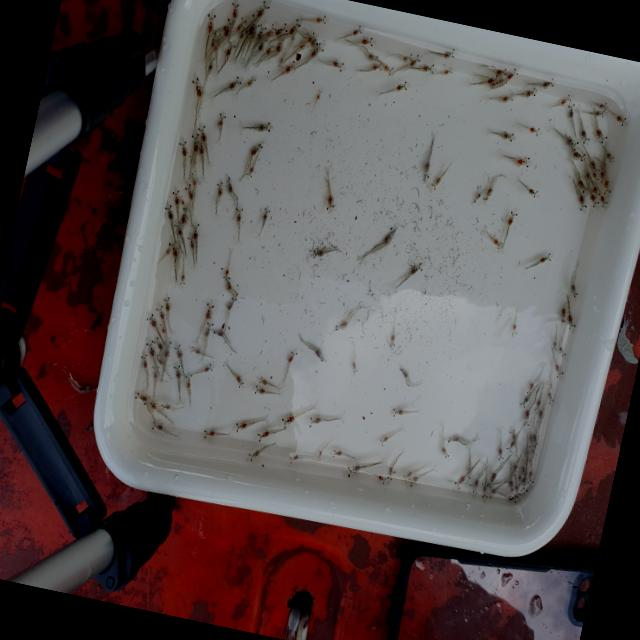babyshrimp: (451, 469, 469, 492), (205, 10, 217, 44), (279, 411, 298, 431), (286, 15, 304, 35), (346, 458, 364, 478), (254, 0, 271, 21), (332, 315, 349, 335), (191, 71, 204, 97), (247, 11, 260, 36), (310, 344, 327, 363), (592, 125, 608, 145), (330, 56, 346, 76), (382, 223, 395, 247), (145, 310, 160, 330), (282, 57, 298, 75), (601, 175, 614, 197), (484, 467, 497, 489), (512, 153, 531, 168), (256, 21, 268, 44), (246, 446, 263, 462), (255, 118, 273, 133), (149, 417, 167, 432), (135, 385, 149, 404), (196, 122, 208, 144), (552, 359, 564, 381), (429, 172, 442, 192), (310, 39, 323, 59), (201, 426, 219, 440), (444, 430, 462, 444), (204, 297, 214, 322), (324, 191, 335, 213), (225, 38, 236, 60), (217, 109, 228, 131), (145, 337, 156, 359), (570, 147, 586, 162), (250, 141, 265, 157), (171, 361, 183, 381), (307, 414, 322, 430), (229, 73, 243, 90), (199, 360, 213, 377), (180, 202, 189, 228), (171, 341, 184, 359), (170, 186, 181, 207), (406, 52, 421, 67), (273, 20, 289, 34), (212, 323, 228, 337), (505, 63, 518, 80), (482, 72, 499, 85), (234, 419, 251, 432), (178, 134, 188, 156), (182, 370, 194, 388), (359, 33, 374, 47), (350, 22, 364, 37), (139, 349, 149, 370), (255, 427, 270, 441), (508, 425, 518, 446), (507, 208, 518, 227), (190, 220, 201, 239), (410, 260, 423, 276), (391, 404, 404, 420), (488, 483, 500, 500), (440, 46, 455, 59), (396, 77, 409, 92), (303, 29, 316, 44), (521, 86, 537, 98), (266, 20, 278, 36), (273, 39, 285, 55), (171, 240, 179, 264), (226, 294, 238, 310), (384, 461, 394, 480), (521, 406, 530, 427), (567, 310, 576, 331), (579, 126, 590, 143), (163, 202, 174, 219), (398, 362, 409, 379), (440, 443, 451, 460), (422, 159, 430, 182), (382, 62, 395, 76), (312, 245, 325, 259), (313, 11, 327, 24), (331, 445, 344, 459), (568, 136, 580, 151), (560, 91, 572, 106), (539, 76, 554, 88), (420, 62, 435, 74), (261, 206, 271, 224), (470, 475, 479, 495), (495, 444, 505, 462), (505, 438, 517, 453), (192, 136, 200, 158), (578, 193, 588, 210), (233, 204, 243, 221), (173, 218, 183, 235), (366, 49, 379, 62), (231, 0, 239, 21), (287, 450, 299, 464), (492, 236, 503, 251), (287, 347, 298, 362), (567, 100, 576, 118), (539, 250, 552, 262), (614, 113, 627, 125), (400, 50, 412, 63), (377, 434, 390, 446), (376, 471, 388, 484), (407, 474, 420, 486), (500, 130, 514, 141), (402, 467, 413, 481), (519, 393, 530, 407), (577, 176, 586, 193), (591, 159, 600, 176), (484, 185, 493, 202), (156, 302, 165, 319), (153, 335, 162, 352), (535, 406, 544, 423), (184, 180, 192, 199), (570, 279, 578, 298), (164, 293, 171, 314), (596, 98, 608, 110), (247, 162, 255, 180), (235, 373, 244, 389), (349, 359, 358, 375), (526, 468, 535, 484), (588, 192, 599, 205), (265, 42, 276, 55), (245, 73, 256, 86), (223, 279, 233, 293), (506, 477, 516, 491), (388, 332, 396, 349), (481, 482, 489, 499), (546, 388, 554, 405), (510, 320, 519, 335), (438, 65, 453, 74), (253, 383, 265, 394), (605, 150, 615, 163), (495, 66, 508, 76), (159, 399, 172, 409), (599, 192, 607, 208), (592, 169, 600, 185), (205, 320, 213, 336), (531, 431, 539, 447), (526, 378, 534, 394), (500, 93, 514, 102), (207, 54, 214, 72), (217, 178, 224, 196), (557, 343, 566, 357), (529, 124, 540, 135), (372, 59, 383, 70), (179, 270, 186, 286), (534, 397, 541, 413), (550, 338, 558, 352), (527, 185, 537, 196), (258, 374, 268, 385), (593, 108, 605, 117), (560, 305, 566, 323), (473, 190, 481, 203), (507, 494, 518, 503), (187, 234, 194, 248), (585, 172, 591, 187), (189, 344, 199, 353), (317, 446, 322, 463), (593, 187, 600, 199), (316, 87, 322, 101), (228, 174, 232, 195), (520, 472, 526, 486), (600, 168, 604, 186), (511, 459, 517, 471), (223, 270, 230, 278), (599, 195, 601, 202)
